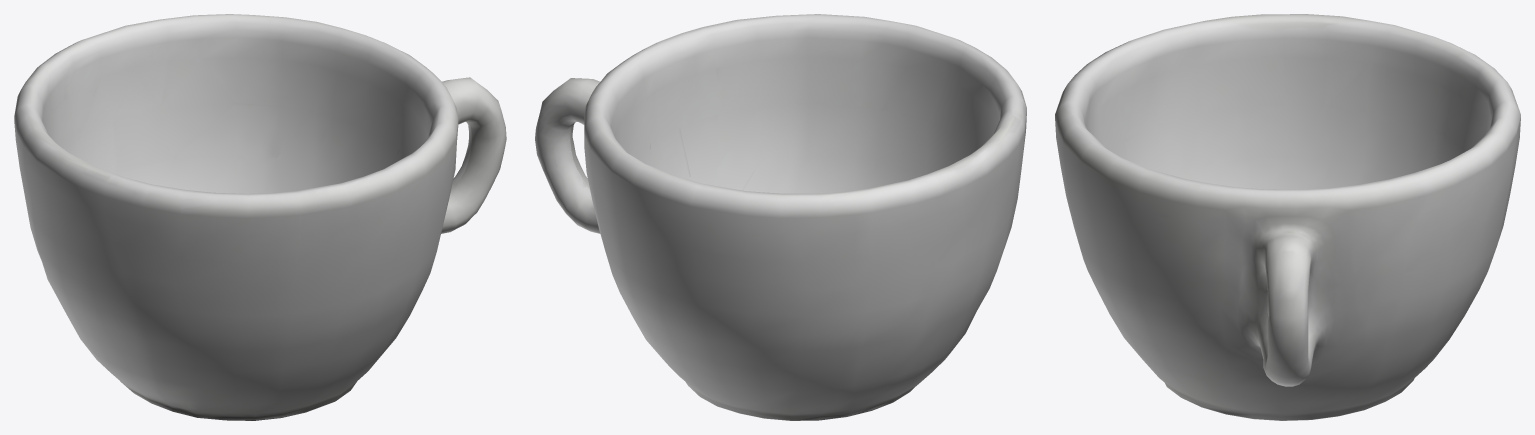
Rendered from Coffee_Cup_0308225707_texture.glb.
The picture shows the model from 3 angles, left to right: view 1: azimuth 30°, elevation 25°; view 2: azimuth 150°, elevation 25°; view 3: azimuth 270°, elevation 25°; orthographic projection.
Visible parts, largest first — view 1: Mesh_0; view 2: Mesh_0; view 3: Mesh_0.
Part boxes in pixels (x1,y1,x2,y2): Mesh_0: (14, 14, 506, 420); Mesh_0: (535, 14, 1026, 420); Mesh_0: (1055, 14, 1520, 420).
Size of the model in its own units: 0.1849 by 0.1016 by 0.1617.
1 material, 1 textured.
